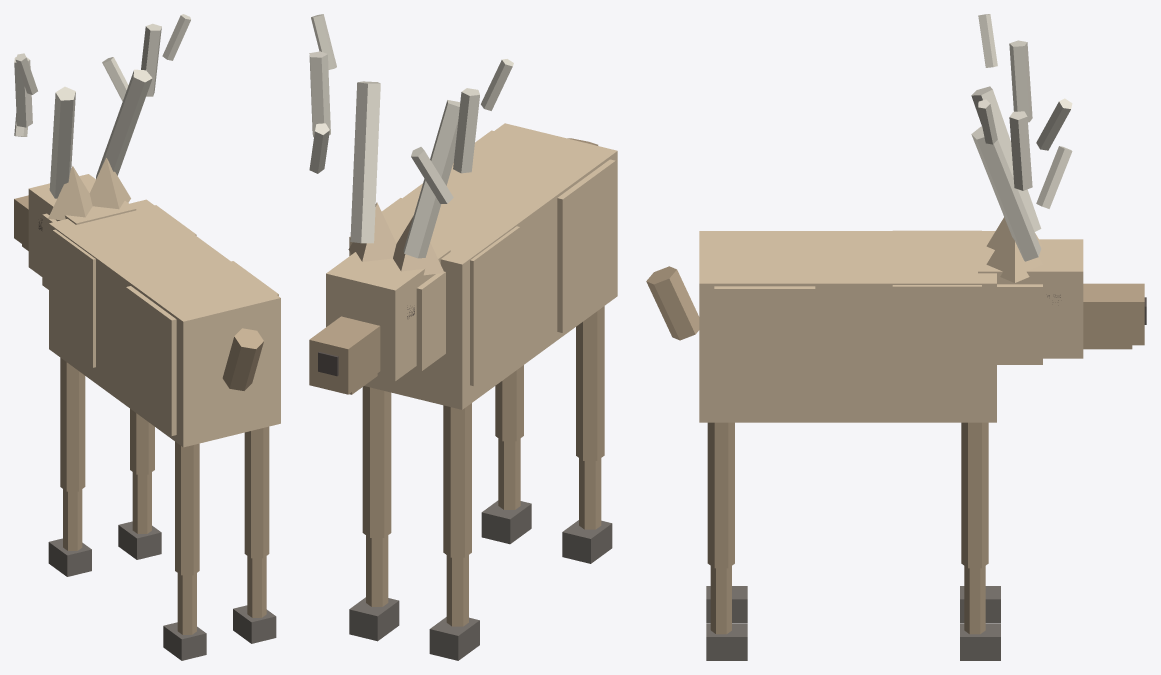
Rendered from deer.glb.
3 views of the same model, side by side, from view 1: azimuth 30°, elevation 25°; view 2: azimuth 150°, elevation 25°; view 3: azimuth 270°, elevation 25° (orthographic). The views are drawn at different scales.
Parts seen in each view (by area): view 1: deer; view 2: deer; view 3: deer.
Part boxes in pixels (x1,y1,x2,y2): deer: [14, 14, 280, 660]; deer: [309, 14, 617, 660]; deer: [646, 14, 1146, 660].
Size of the model in its own units: 0.4653 by 1.33 by 1.04.
